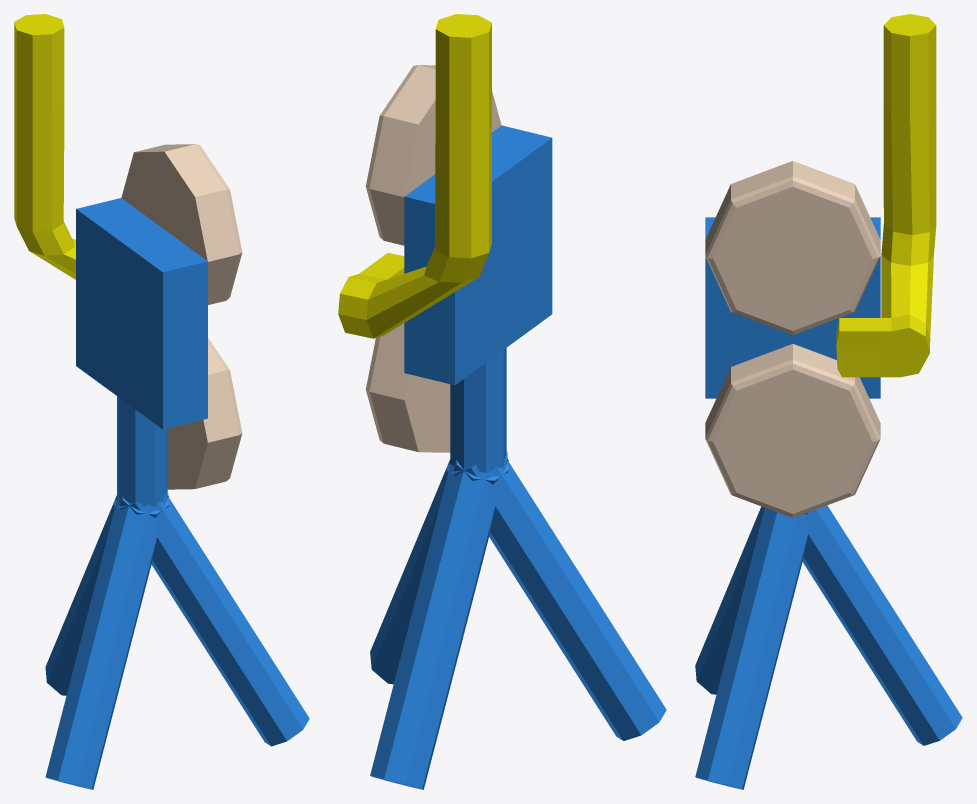
The model's file is pitching_machine.glb.
3 renders of one model, left to right at view 1: azimuth 30°, elevation 25°; view 2: azimuth 150°, elevation 25°; view 3: azimuth 270°, elevation 25°, orthographic. The views are drawn at different scales.
Visible parts, largest first — view 1: Cube, Cylinder, Cylinder.003, Cylinder.004, Cylinder.005, Cylinder.001, Cylinder.002; view 2: Cube, Cylinder.005, Cylinder.002, Cylinder.003, Cylinder, Cylinder.001, Cylinder.004; view 3: Cylinder, Cylinder.005, Cylinder.004, Cylinder.002, Cube, Cylinder.003.
Boxes of the visible parts, x1,y1,x2,y2 form: Cube: (76,198,207,429); Cylinder: (121,144,242,489); Cylinder.003: (45,494,168,789); Cylinder.004: (113,497,309,746); Cylinder.005: (14,14,75,279); Cylinder.001: (117,396,166,507); Cylinder.002: (45,488,168,695); Cube: (404,125,552,385); Cylinder.005: (338,14,491,338); Cylinder.002: (370,458,508,789); Cylinder.003: (446,457,666,740); Cylinder: (365,65,501,452); Cylinder.001: (450,348,506,472); Cylinder.004: (370,452,508,684); Cylinder: (705,161,880,517); Cylinder.005: (836,14,936,377); Cylinder.004: (695,508,807,789); Cylinder.002: (802,505,962,745); Cube: (705,217,880,398); Cylinder.003: (695,506,807,694).
Bounding box in the file's own units: 3.43 × 8.73 × 3.05.
